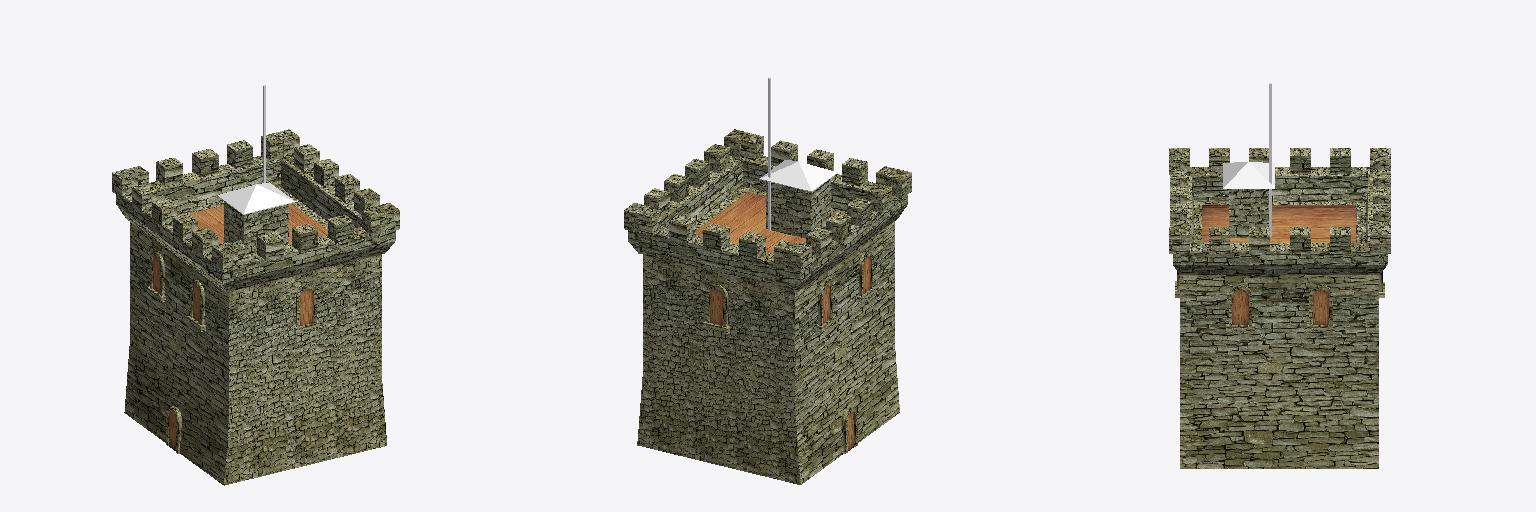
3 views of the same model, side by side, from view 1: azimuth 30°, elevation 25°; view 2: azimuth 150°, elevation 25°; view 3: azimuth 270°, elevation 25° (orthographic).
Parts seen in each view (by area): view 1: Box646, Box681, Box656, Box657, Box125, Box660, Box661, Box6857, Mesh61, Box667, Box665, Box666 (+13 smaller); view 2: Box646, Box656, Box125, Box661, Box657, Box660, Box681, Box6857, Mesh61, Box653, Box654, Box652 (+12 smaller); view 3: Box646, Box657, Box660, Box661, Box125, Box6857, Mesh61, Box684, Box669, Box670, Box671, Box672 (+5 smaller).
Part boxes in pixels (x1,y1,x2,y2): Box646: (124, 187, 386, 485); Box681: (214, 227, 395, 291); Box656: (116, 155, 293, 223); Box657: (280, 157, 361, 227); Box125: (224, 201, 288, 253); Box660: (120, 196, 218, 286); Box661: (190, 204, 327, 243); Box6857: (217, 182, 294, 214); Mesh61: (244, 185, 295, 213); Box667: (257, 232, 283, 261); Box665: (328, 215, 353, 244); Box666: (292, 224, 317, 252); Box646: (637, 187, 899, 484); Box656: (628, 226, 804, 291); Box125: (766, 179, 830, 238); Box661: (696, 192, 835, 253); Box657: (661, 157, 743, 227); Box660: (799, 196, 897, 290); Box681: (730, 156, 907, 223); Box6857: (759, 160, 837, 191); Mesh61: (760, 162, 810, 190); Box653: (703, 223, 729, 252); Box654: (669, 215, 695, 244); Box652: (739, 232, 765, 261); Box646: (1180, 202, 1378, 468); Box657: (1181, 243, 1378, 274); Box660: (1187, 167, 1372, 201); Box661: (1202, 205, 1355, 242); Box125: (1229, 189, 1268, 237); Box6857: (1223, 162, 1274, 188); Mesh61: (1223, 162, 1274, 187); Box684: (1232, 289, 1248, 324); Box669: (1209, 227, 1229, 253); Box670: (1330, 227, 1350, 253); Box671: (1249, 227, 1269, 253); Box672: (1290, 227, 1310, 253).
Bounding box in the file's own units: 78.55 × 147 × 84.84.
3 materials, 2 textured.